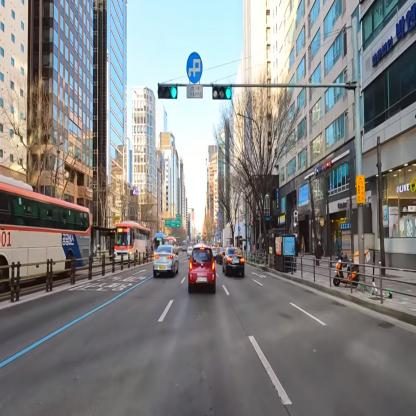Green: (157, 82, 178, 100), (212, 86, 233, 102)
